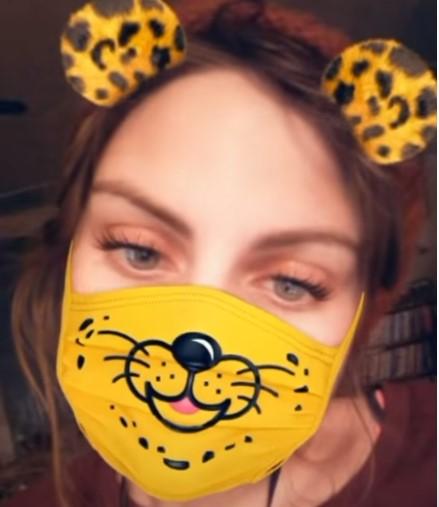face_with_mask: (52, 34, 383, 503)
